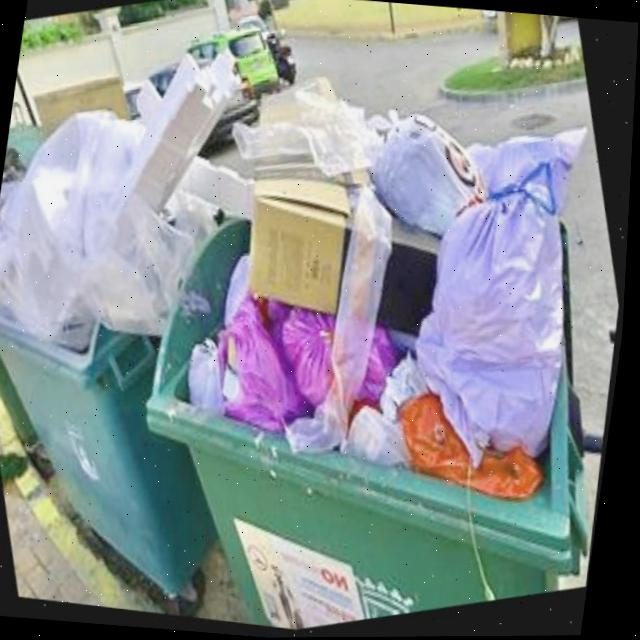Garbage: (198, 83, 590, 501), (0, 59, 256, 355)
Plastic_Bag: (0, 60, 240, 353), (422, 131, 590, 466), (223, 297, 341, 435), (407, 396, 550, 502), (237, 83, 386, 181), (366, 331, 404, 406)
